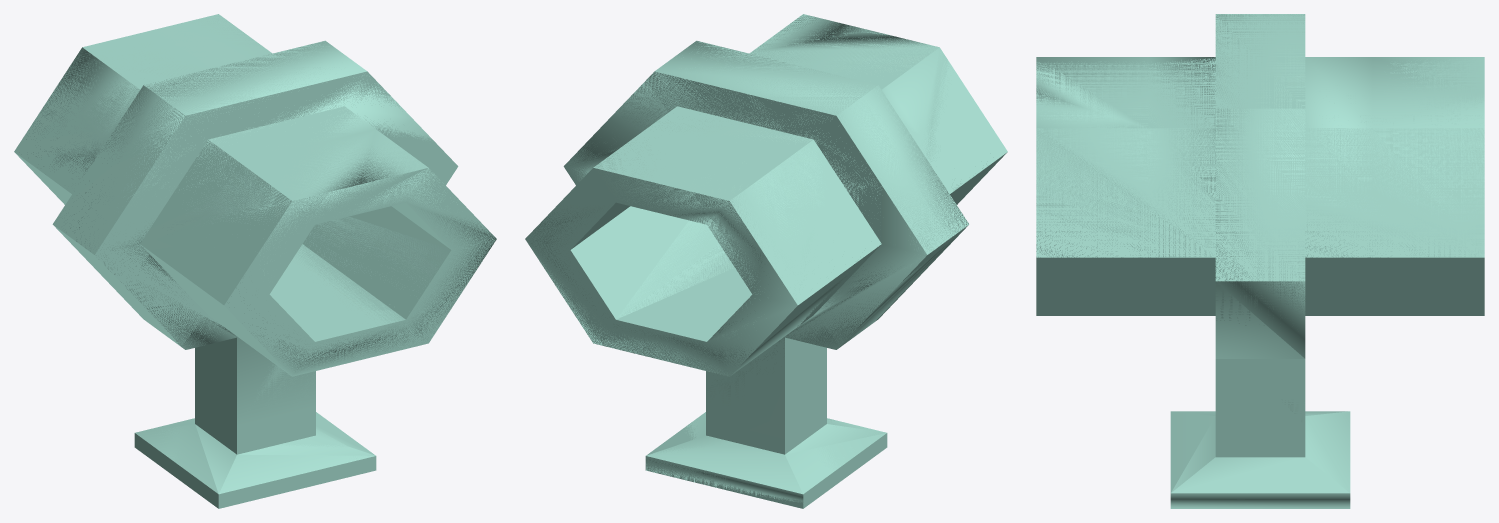
File: space-kit__pipe_ringHigh.glb
The picture shows the model from 3 angles, left to right: view 1: azimuth 30°, elevation 25°; view 2: azimuth 150°, elevation 25°; view 3: azimuth 270°, elevation 25°; orthographic projection. The views are drawn at different scales.
Parts seen in each view (by area): view 1: L0_accent, L1_accent; view 2: L0_accent, L1_accent; view 3: L0_accent, L1_accent.
Part boxes in pixels (x1,y1,x2,y2): L0_accent: (14,14,496,508); L1_accent: (26,14,496,508); L0_accent: (525,14,1007,508); L1_accent: (525,15,982,508); L0_accent: (1036,14,1484,493); L1_accent: (1036,14,1484,508).
Size of the model in its own units: 1 by 1 by 1.
